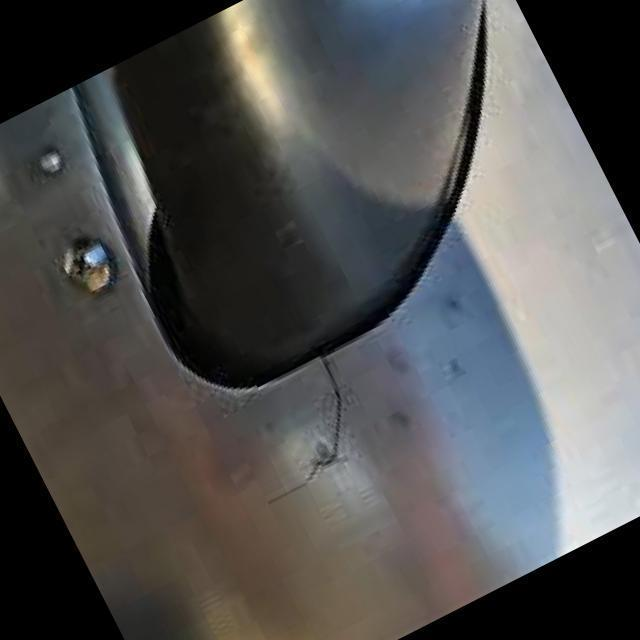defect: (261, 352, 345, 509)
